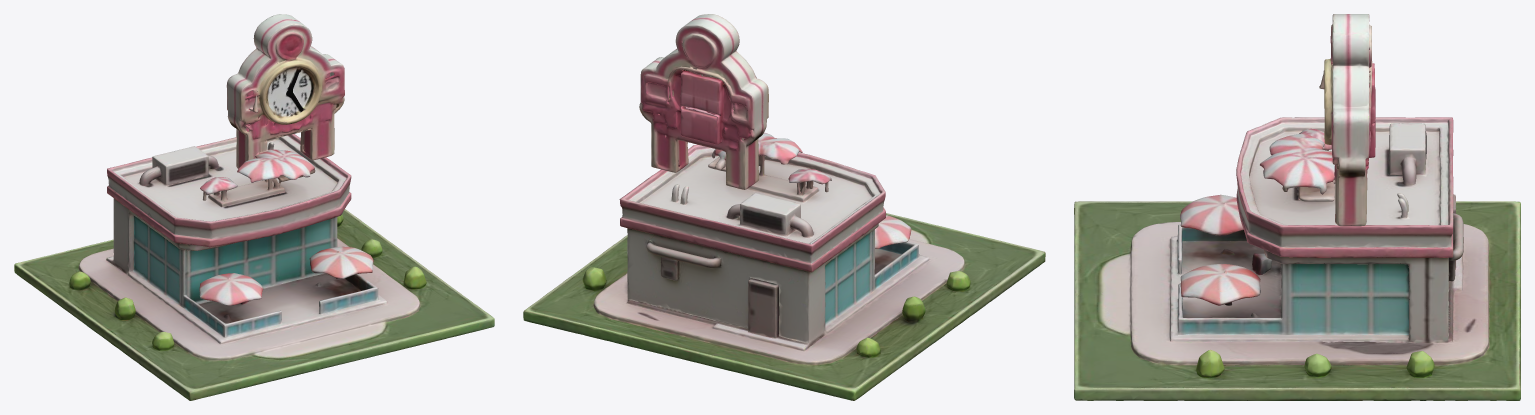
Rendered from diner.glb.
The picture shows the model from 3 angles, left to right: view 1: azimuth 30°, elevation 25°; view 2: azimuth 150°, elevation 25°; view 3: azimuth 270°, elevation 25°; orthographic projection. The views are drawn at different scales.
Parts seen in each view (by area): view 1: geometry_0; view 2: geometry_0; view 3: geometry_0.
Boxes of the visible parts, bbox=[...] form: geometry_0: bbox=[14, 14, 494, 400]; geometry_0: bbox=[523, 14, 1045, 400]; geometry_0: bbox=[1074, 14, 1520, 400].
Bounding box in the file's own units: 1 × 0.7945 × 1.
Materials: 1 (1 with a texture image).
